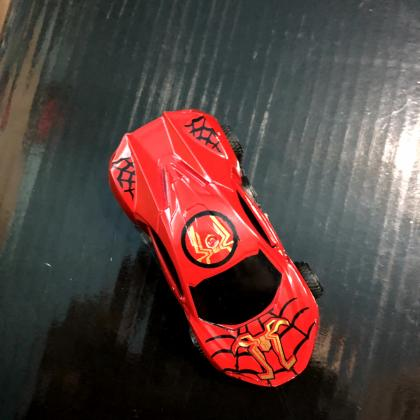Car: (107, 110, 320, 389)
